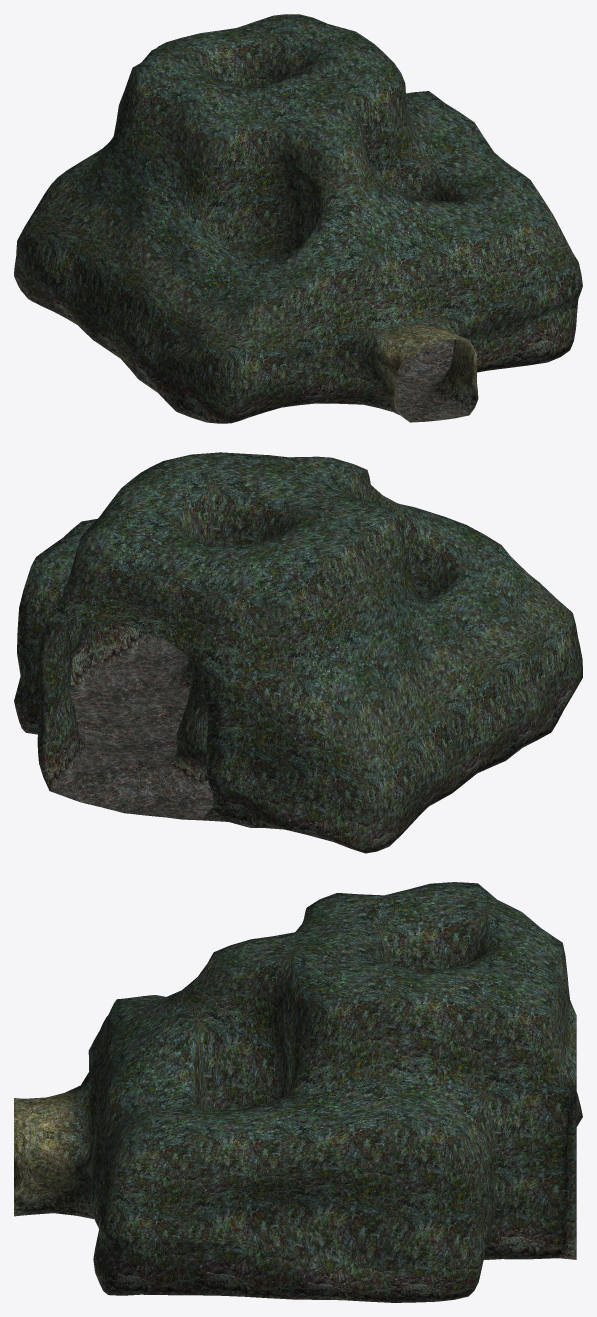
Rendered from thm_all_cave_flatland_s03_damprock_r28_mesh_r28.fbx.
The picture shows the model from 3 angles, top to bottom: view 1: azimuth 30°, elevation 25°; view 2: azimuth 150°, elevation 25°; view 3: azimuth 270°, elevation 25°; orthographic projection. The views are drawn at different scales.
Parts seen in each view (by area): view 1: mesh_node; view 2: mesh_node; view 3: mesh_node.
Boxes of the visible parts, left/top/right/bottom form: mesh_node: left=14, top=14, right=582, bottom=423; mesh_node: left=14, top=452, right=582, bottom=853; mesh_node: left=14, top=882, right=582, bottom=1302.
Size of the model in its own units: 51.96 by 31.67 by 58.71.
